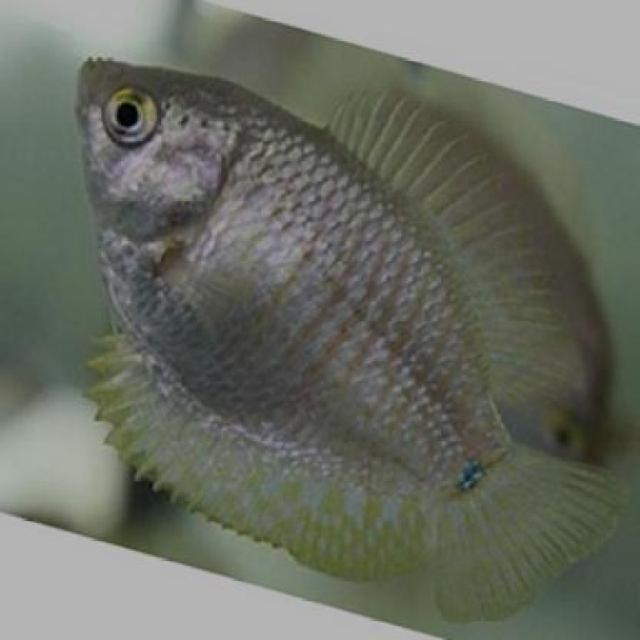Gourami: (68, 47, 634, 624)
